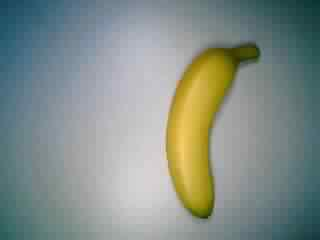banana: (163, 41, 260, 219)
